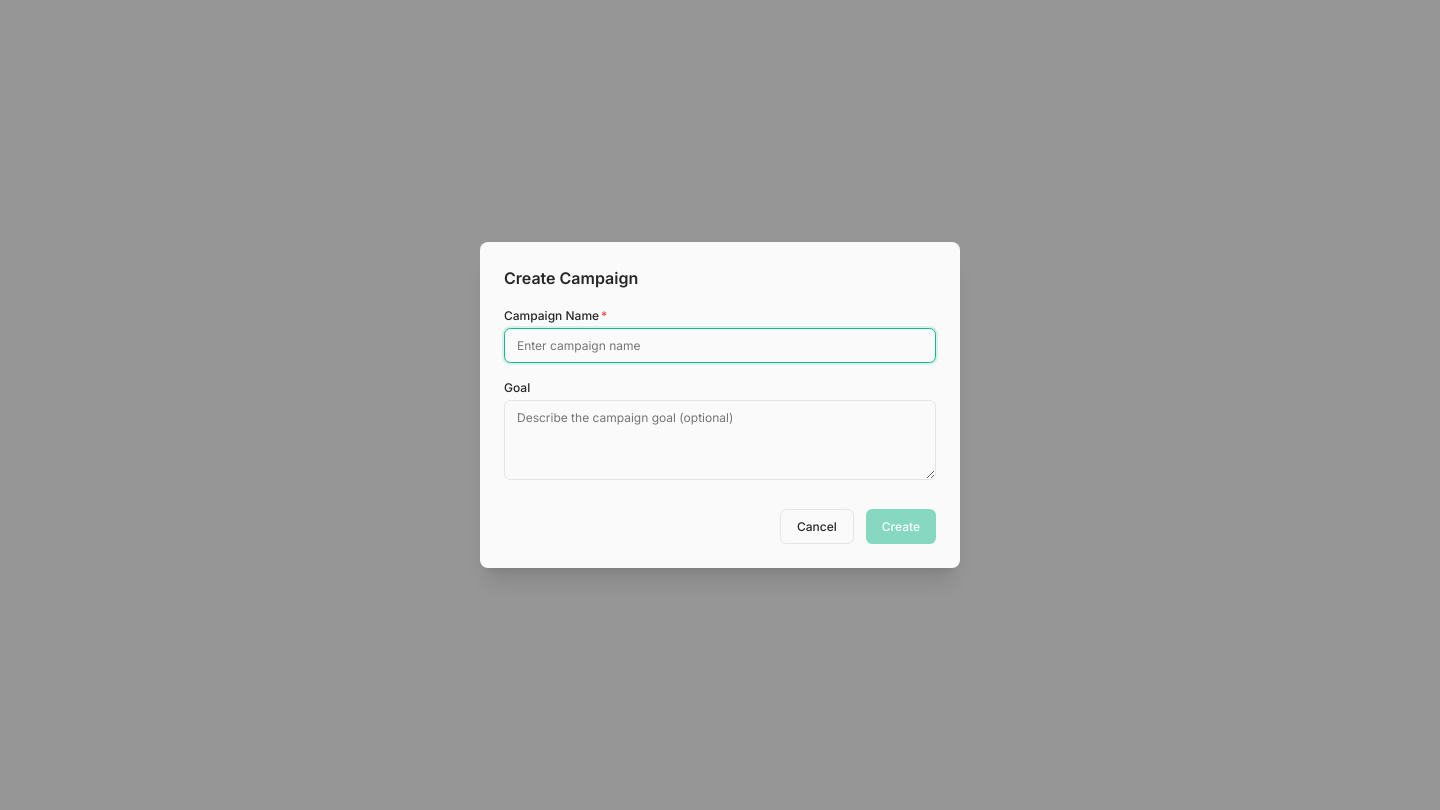
Test: CreateCampaignDialog › enables Create button when name is entered
Type "My Campaign" into the field labelled "Campaign Name*" at (720, 345), box [504, 328, 936, 363]
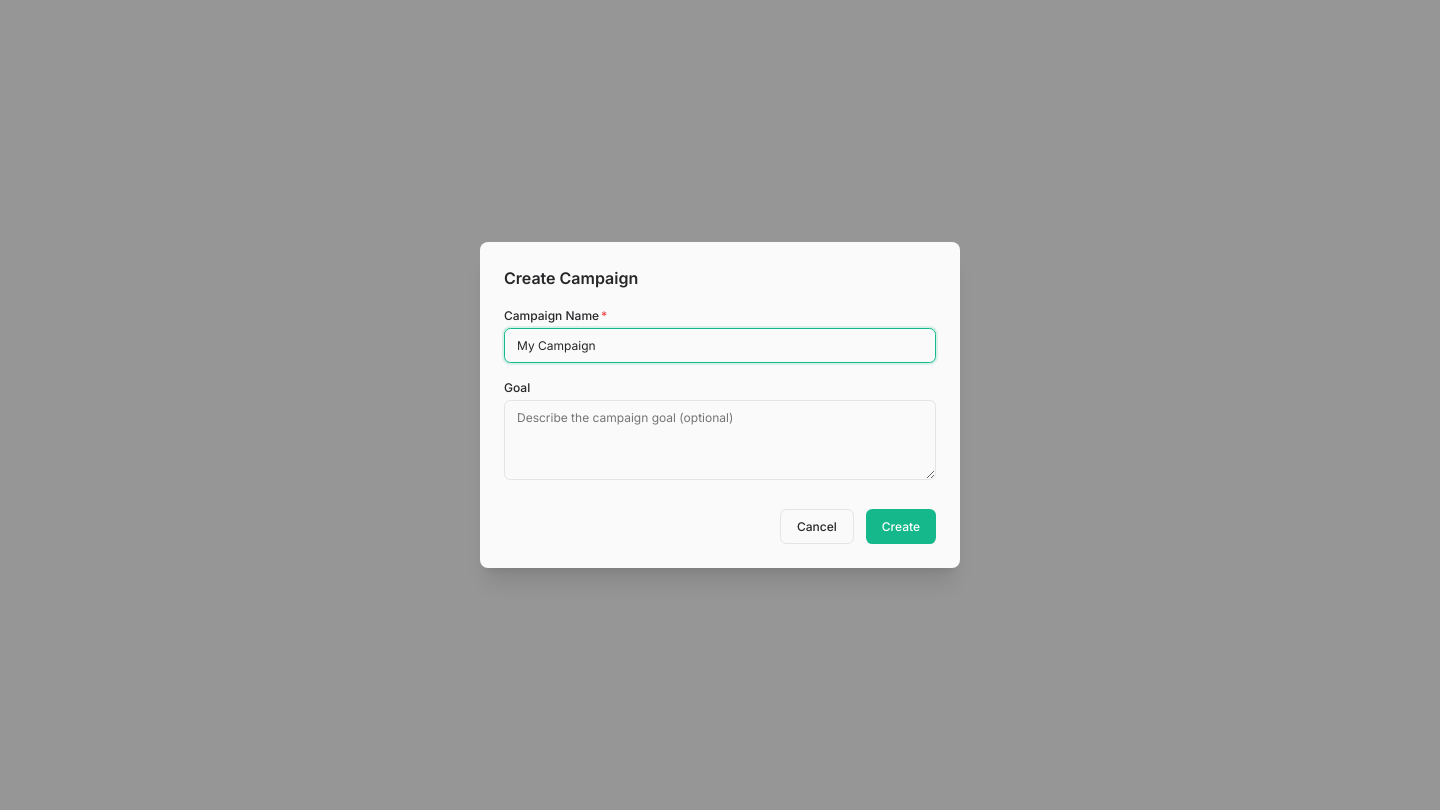
Expected: the button "Create" is enabled, [866, 509, 936, 544]
